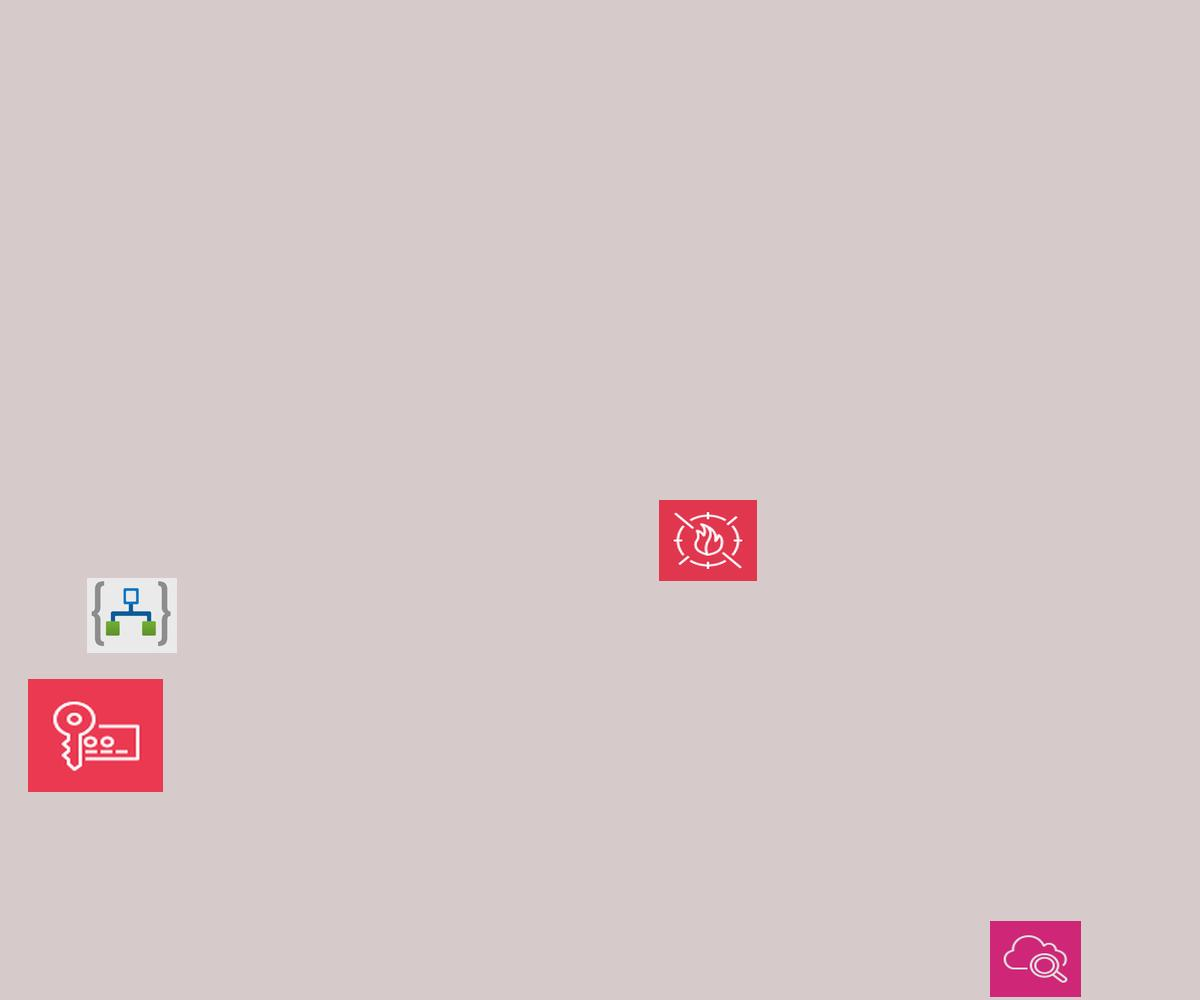AWS-CloudWatch: (990, 921, 1081, 997)
AWS-Key-Management-Service: (28, 679, 163, 792)
AWS-WAF: (659, 500, 757, 581)
Azure_integration-204-Logic-Apps: (87, 578, 177, 653)
